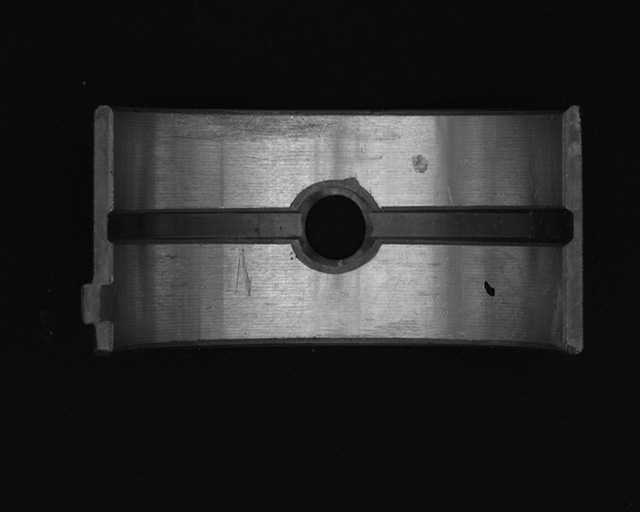blot: (483, 280, 496, 297)
bruise: (411, 154, 430, 175)
gap: (367, 205, 573, 246), (107, 207, 298, 245)
hole: (291, 181, 376, 273)
nick: (233, 243, 254, 300)
scratch: (162, 110, 346, 143)
